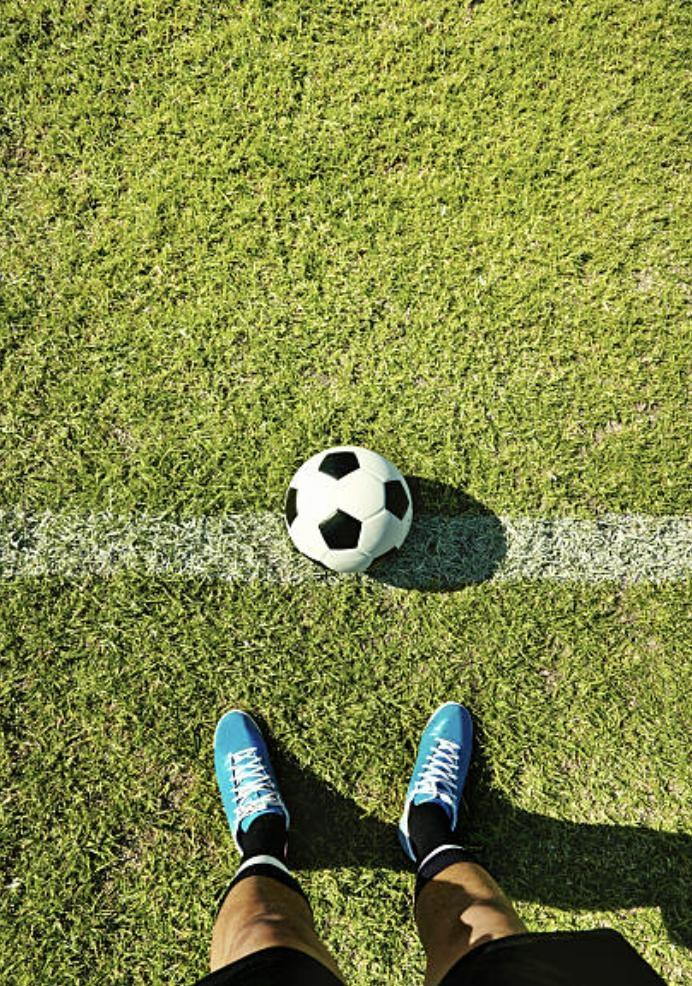Sports-Ball: (285, 447, 412, 572)
